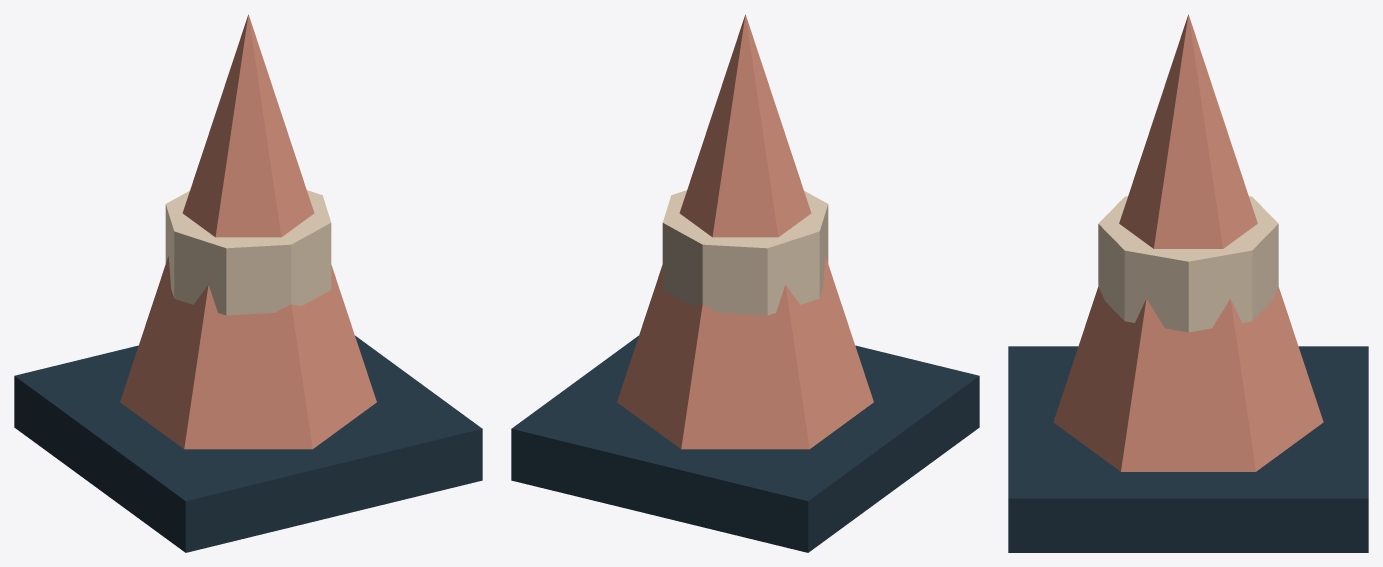
File: trafficCone.obj
3 renders of one model, left to right at view 1: azimuth 30°, elevation 25°; view 2: azimuth 150°, elevation 25°; view 3: azimuth 270°, elevation 25°, orthographic. The views are drawn at different scales.
Parts seen in each view (by area): view 1: trafficCone; view 2: trafficCone; view 3: trafficCone.
Part boxes in pixels (bbox=[...]): trafficCone: bbox=[14, 14, 482, 552]; trafficCone: bbox=[511, 14, 979, 552]; trafficCone: bbox=[1008, 14, 1368, 552].
Size of the model in its own units: 0.6 by 0.85 by 0.6.
